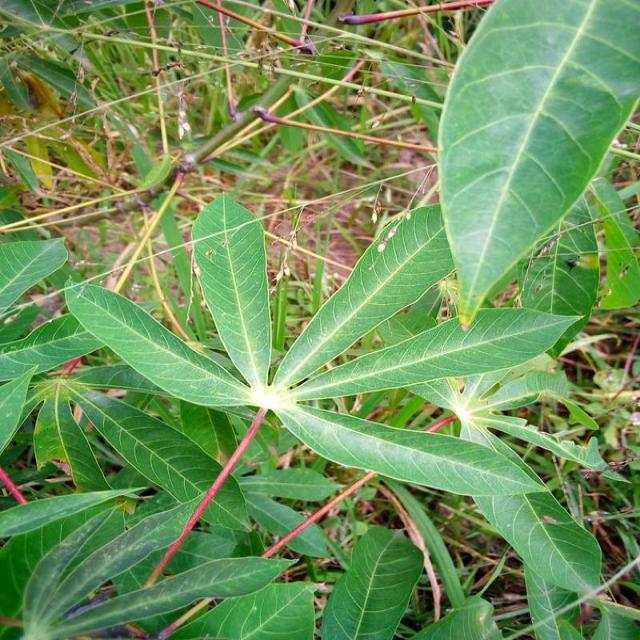cassava leaf: (436, 0, 638, 329), (190, 192, 272, 390)
